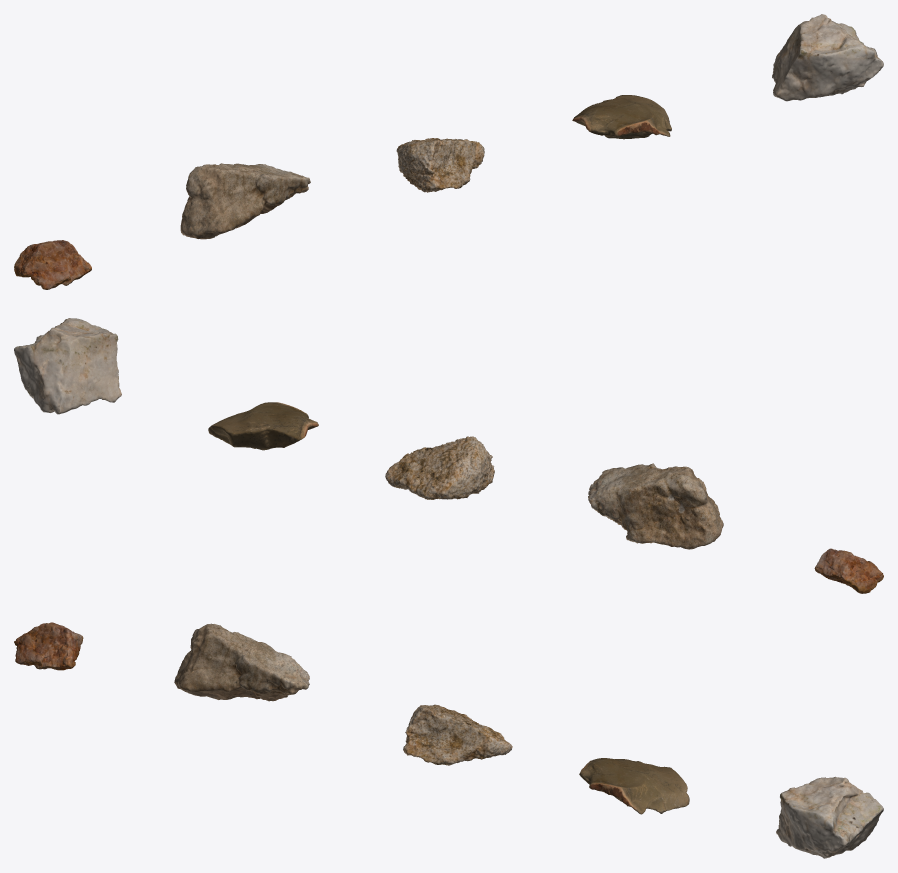
File: namaqualand_stones_01.glb
3 renders of one model, top to bottom at view 1: azimuth 30°, elevation 25°; view 2: azimuth 150°, elevation 25°; view 3: azimuth 330°, elevation 25°, orthographic.
Parts seen in each view (by area): view 1: namaqualand_stones_01_e, namaqualand_stones_01_b, namaqualand_stones_01_c, namaqualand_stones_01_d, namaqualand_stones_01_a; view 2: namaqualand_stones_01_b, namaqualand_stones_01_e, namaqualand_stones_01_c, namaqualand_stones_01_d, namaqualand_stones_01_a; view 3: namaqualand_stones_01_b, namaqualand_stones_01_e, namaqualand_stones_01_c, namaqualand_stones_01_d, namaqualand_stones_01_a.
Boxes of the visible parts, x1=… form: namaqualand_stones_01_e: x1=772, y1=14, x2=883, y2=101; namaqualand_stones_01_b: x1=180, y1=163, x2=310, y2=239; namaqualand_stones_01_c: x1=396, y1=138, x2=484, y2=192; namaqualand_stones_01_d: x1=572, y1=95, x2=671, y2=139; namaqualand_stones_01_a: x1=14, y1=240, x2=91, y2=289; namaqualand_stones_01_b: x1=588, y1=463, x2=723, y2=549; namaqualand_stones_01_e: x1=14, y1=318, x2=121, y2=414; namaqualand_stones_01_c: x1=385, y1=436, x2=494, y2=499; namaqualand_stones_01_d: x1=208, y1=402, x2=318, y2=450; namaqualand_stones_01_a: x1=814, y1=548, x2=883, y2=593; namaqualand_stones_01_b: x1=174, y1=623, x2=309, y2=701; namaqualand_stones_01_e: x1=776, y1=776, x2=883, y2=858; namaqualand_stones_01_c: x1=403, y1=704, x2=512, y2=765; namaqualand_stones_01_d: x1=579, y1=758, x2=689, y2=814; namaqualand_stones_01_a: x1=14, y1=622, x2=83, y2=670.
Size of the model in its own units: 1.02 by 0.084 by 0.1121.
Materials: 1 (1 with a texture image).
